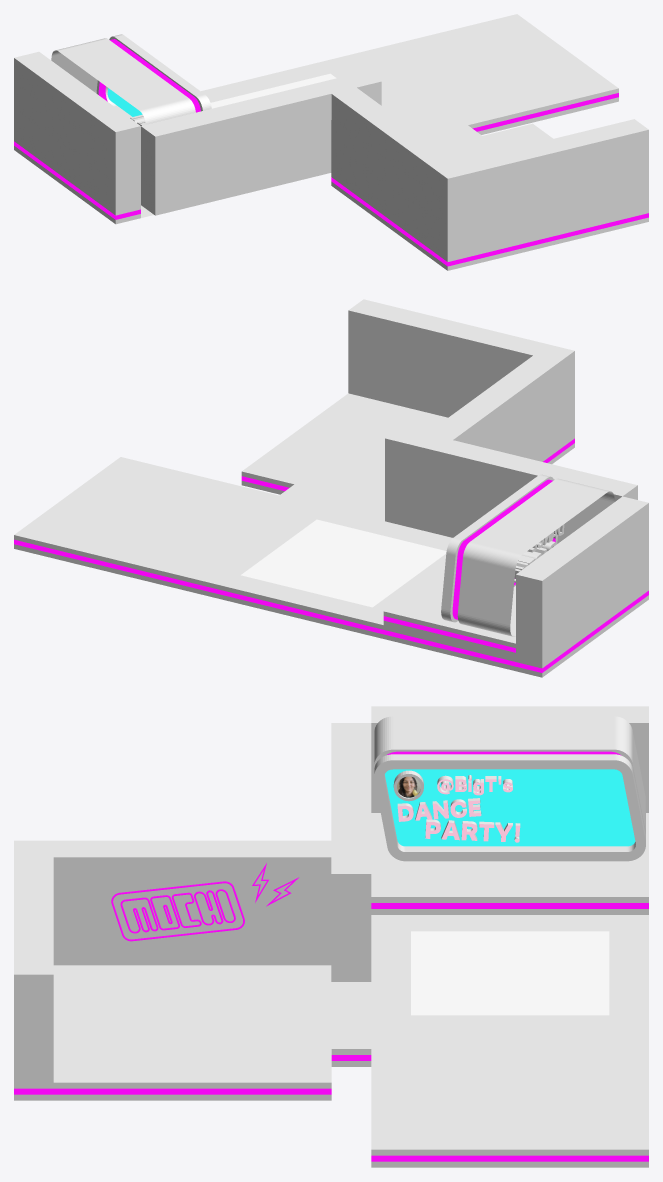
The model's file is disco.glb.
3 views of the same model, one above another, from view 1: azimuth 30°, elevation 25°; view 2: azimuth 150°, elevation 25°; view 3: azimuth 270°, elevation 25° (orthographic). The views are drawn at different scales.
Parts seen in each view (by area): view 1: Plane, MOCHI.001, Plane.028; view 2: Plane, MOCHI.001, Plane.028, Text; view 3: Plane, MOCHI.001, Plane.028, Text, Curve, Cylinder.
Boxes of the visible parts, bbox=[...] form: Plane: bbox=[14, 14, 648, 270]; MOCHI.001: bbox=[51, 34, 211, 124]; Plane.028: bbox=[210, 73, 336, 108]; Plane: bbox=[14, 299, 648, 677]; MOCHI.001: bbox=[441, 474, 614, 636]; Plane.028: bbox=[241, 519, 446, 607]; Text: bbox=[514, 524, 564, 582]; Plane: bbox=[14, 706, 648, 1167]; MOCHI.001: bbox=[374, 716, 645, 861]; Plane.028: bbox=[411, 931, 609, 1015]; Text: bbox=[397, 775, 520, 842]; Curve: bbox=[111, 881, 244, 941]; Cylinder: bbox=[393, 770, 423, 801].
Size of the model in its own units: 20 by 3.81 by 16.
Materials: 12 (1 with a texture image).
